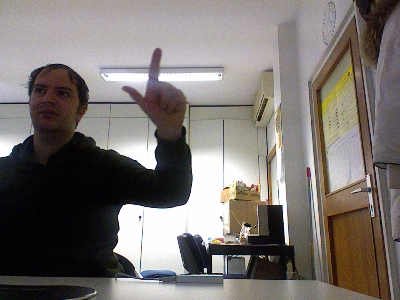枪: (119, 44, 188, 130)
